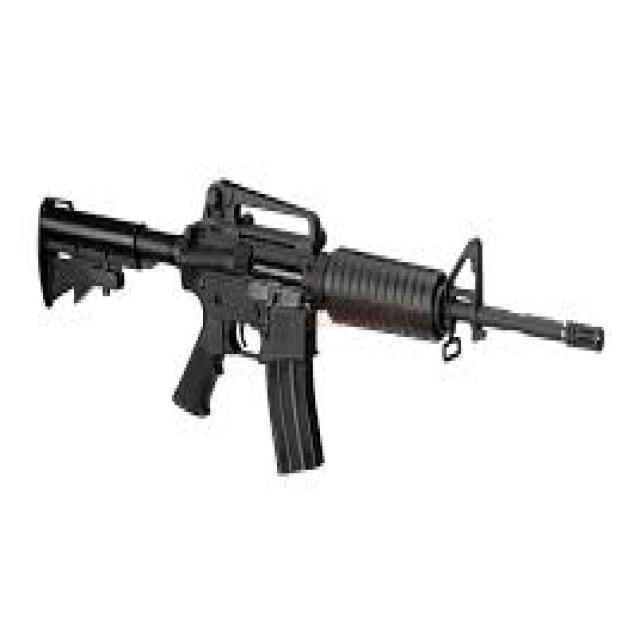rifle: (28, 162, 610, 481)
